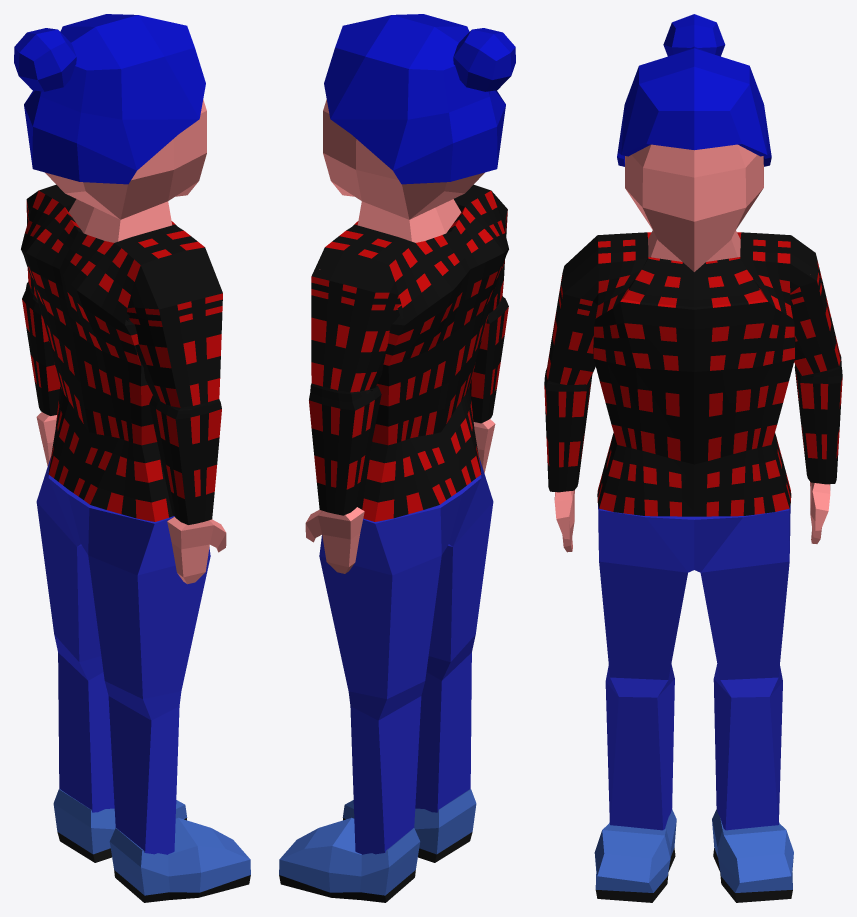
Rendered from char_no_rigging.obj.
3 renders of one model, left to right at view 1: azimuth 30°, elevation 25°; view 2: azimuth 150°, elevation 25°; view 3: azimuth 270°, elevation 25°, orthographic. The views are drawn at different scales.
Parts seen in each view (by area): view 1: char_Cube.003; view 2: char_Cube.003; view 3: char_Cube.003.
Boxes of the visible parts, bbox=[...] form: char_Cube.003: bbox=[14, 14, 250, 902]; char_Cube.003: bbox=[279, 14, 515, 902]; char_Cube.003: bbox=[544, 14, 842, 902].
Size of the model in its own units: 0.1418 by 0.6075 by 0.2022.
